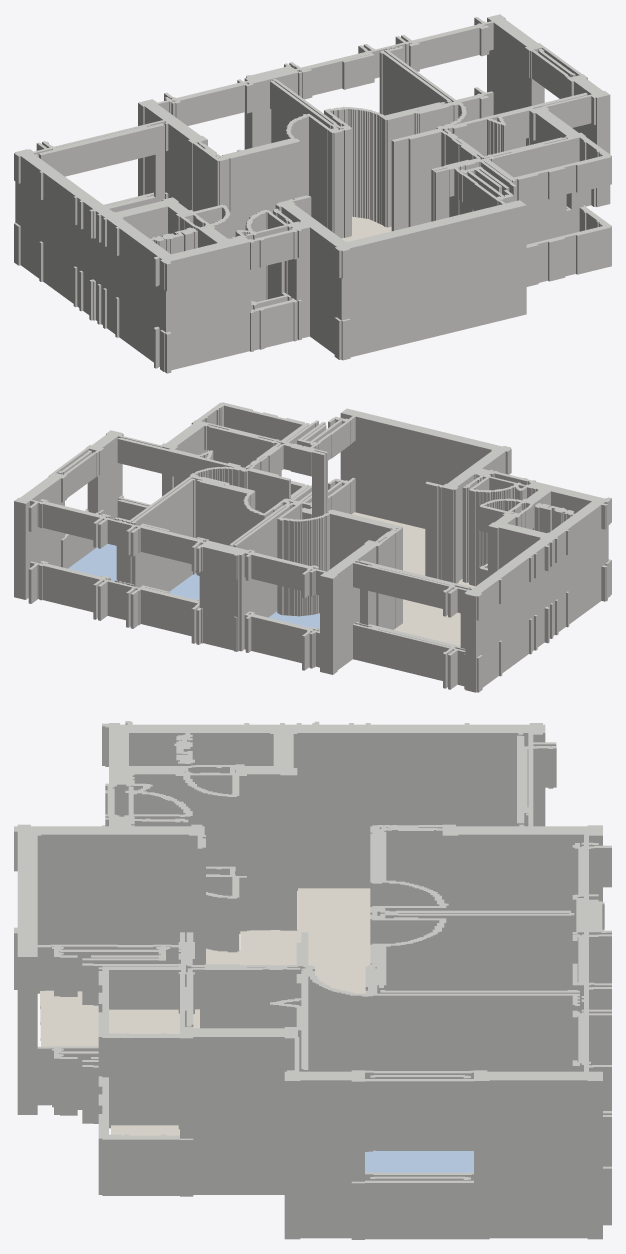
The picture shows the model from 3 angles, top to bottom: view 1: azimuth 30°, elevation 25°; view 2: azimuth 150°, elevation 25°; view 3: azimuth 270°, elevation 25°; orthographic projection. The views are drawn at different scales.
Visible parts, largest first — view 1: walls, room:other:3; view 2: walls, room:other:3, room:bedroom:0; view 3: walls, room:other:3, room:bedroom:0, room:other:7.
Boxes of the visible parts, x1,y1,x2,y2 form: walls: [14, 14, 611, 373]; room:other:3: [342, 216, 391, 241]; walls: [14, 402, 611, 692]; room:other:3: [352, 512, 475, 646]; room:bedroom:0: [68, 543, 319, 631]; walls: [14, 721, 611, 1239]; room:other:3: [40, 888, 370, 1046]; room:bedroom:0: [365, 990, 572, 1172]; room:other:7: [111, 1125, 179, 1135].
Size of the model in its own units: 13.69 by 2.8 by 9.6.
